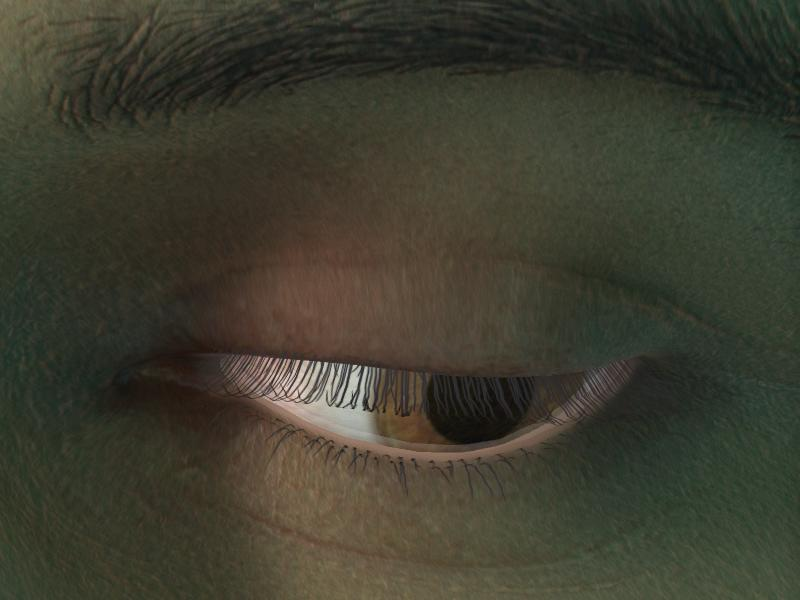eye: (371, 364, 586, 459)
